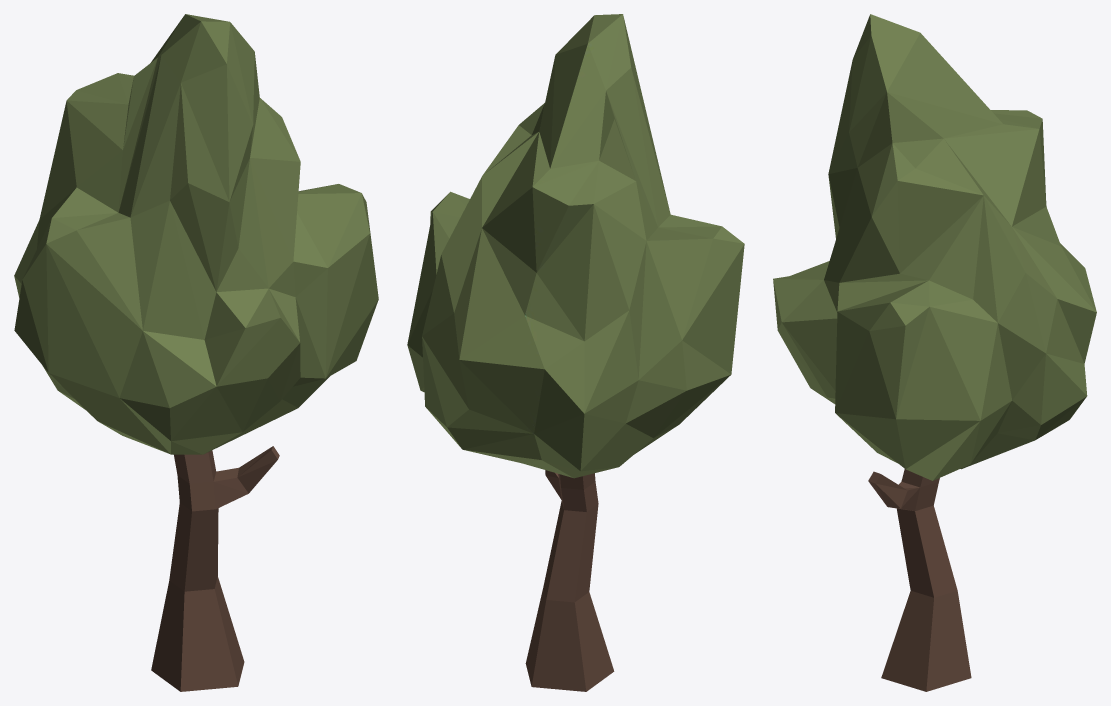
Rendered from SM_Tree_01.fbx.
3 renders of one model, left to right at view 1: azimuth 30°, elevation 25°; view 2: azimuth 150°, elevation 25°; view 3: azimuth 270°, elevation 25°, orthographic. The views are drawn at different scales.
Parts seen in each view (by area): view 1: SM_Tree_01; view 2: SM_Tree_01; view 3: SM_Tree_01.
Part boxes in pixels (left/top/right/bottom): SM_Tree_01: left=14, top=14, right=378, bottom=691; SM_Tree_01: left=407, top=14, right=744, bottom=691; SM_Tree_01: left=773, top=14, right=1096, bottom=691.
Bounding box in the file's own units: 125 × 245 × 111.
